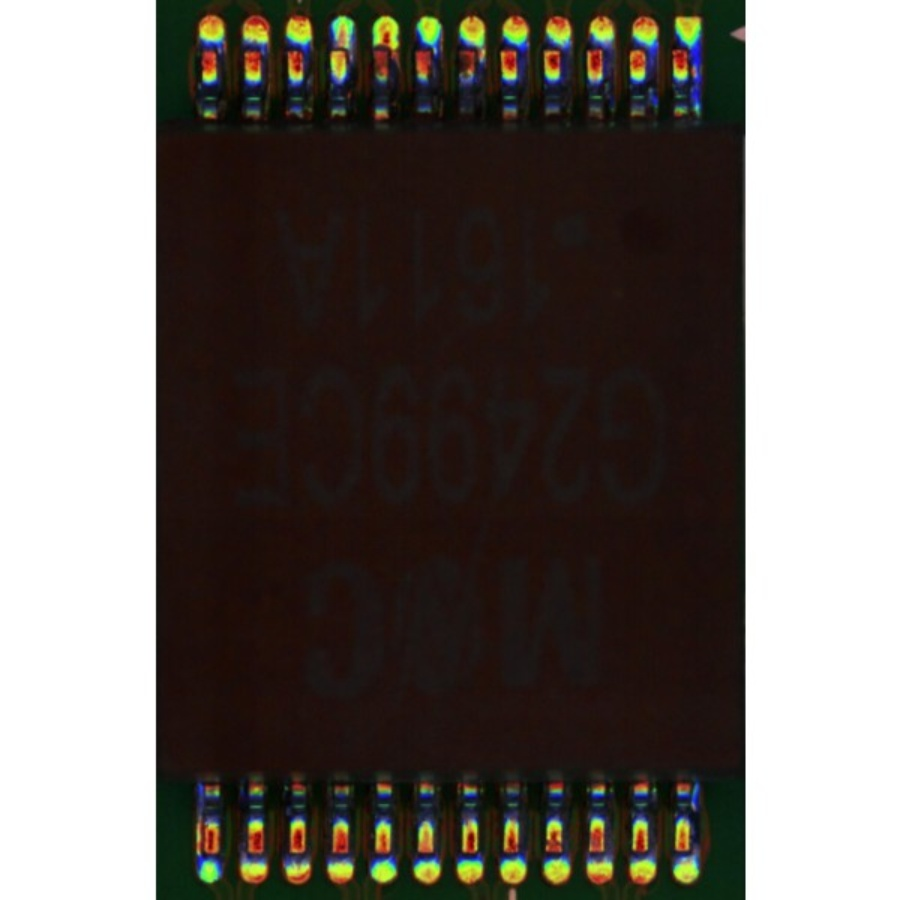Bad_podu: (333, 37, 347, 62), (378, 35, 390, 56)
Bad_qiaojiao: (691, 49, 701, 114), (195, 785, 203, 856)
